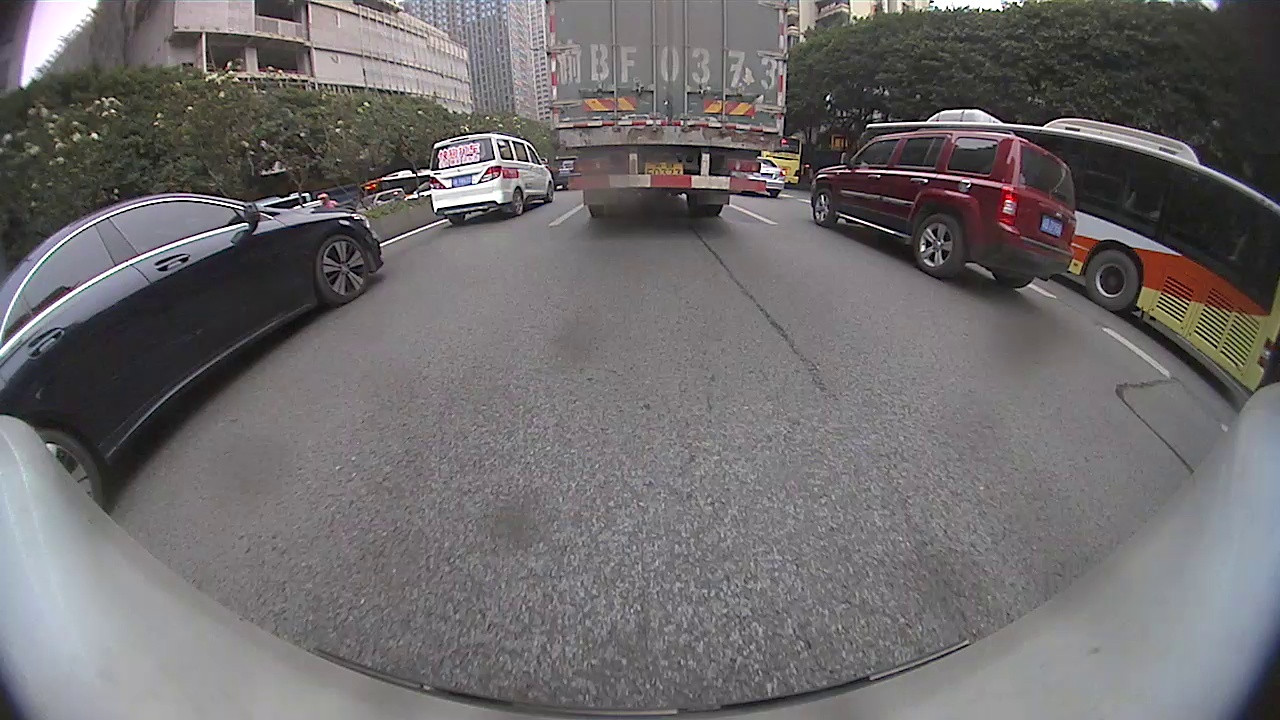bus: (860, 103, 1277, 396)
car: (3, 193, 383, 514), (807, 129, 1076, 287), (430, 130, 556, 224)
front: (314, 233, 371, 307), (811, 186, 837, 229)
rear: (31, 425, 107, 513), (1083, 246, 1141, 314), (912, 211, 968, 279), (506, 187, 524, 218)
truck: (544, 2, 788, 216)
